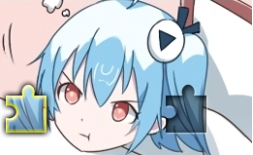gap: (167, 85, 206, 133)
